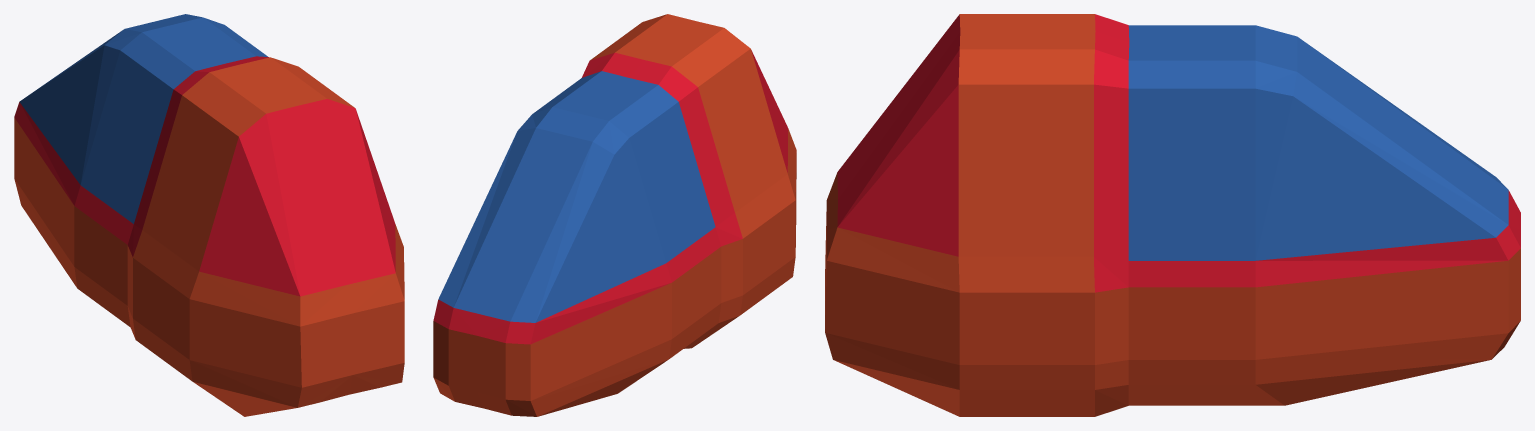
Rendered from Head.FBX.
3 views of the same model, side by side, from view 1: azimuth 30°, elevation 25°; view 2: azimuth 150°, elevation 25°; view 3: azimuth 270°, elevation 25° (orthographic). The views are drawn at different scales.
Visible parts, largest first — view 1: VIFS003, VIFS002, VIFS001; view 2: VIFS003, VIFS001, VIFS002; view 3: VIFS003, VIFS001, VIFS002.
Boxes of the visible parts, x1=… form: VIFS003: x1=14, y1=57, x2=404, y2=416; VIFS002: x1=14, y1=56, x2=395, y2=296; VIFS001: x1=19, y1=14, x2=267, y2=223; VIFS003: x1=433, y1=14, x2=796, y2=416; VIFS001: x1=438, y1=71, x2=715, y2=322; VIFS002: x1=433, y1=50, x2=788, y2=344; VIFS003: x1=825, y1=14, x2=1520, y2=416; VIFS001: x1=1128, y1=25, x2=1508, y2=260; VIFS002: x1=837, y1=14, x2=1520, y2=292.
Size of the model in its own units: 0.523 by 0.695 by 1.24.
